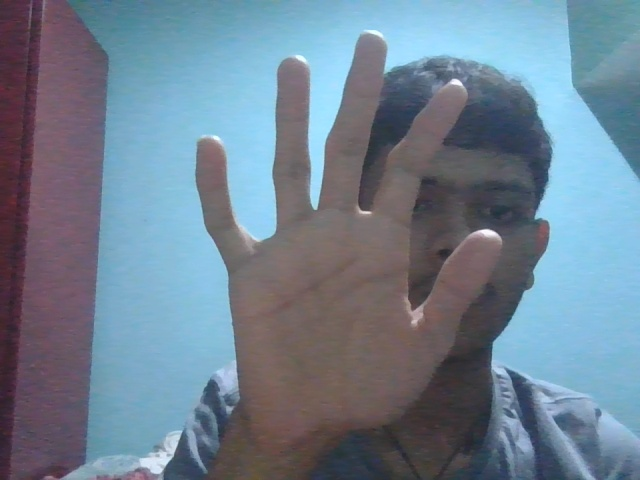hello: (181, 27, 519, 456)
